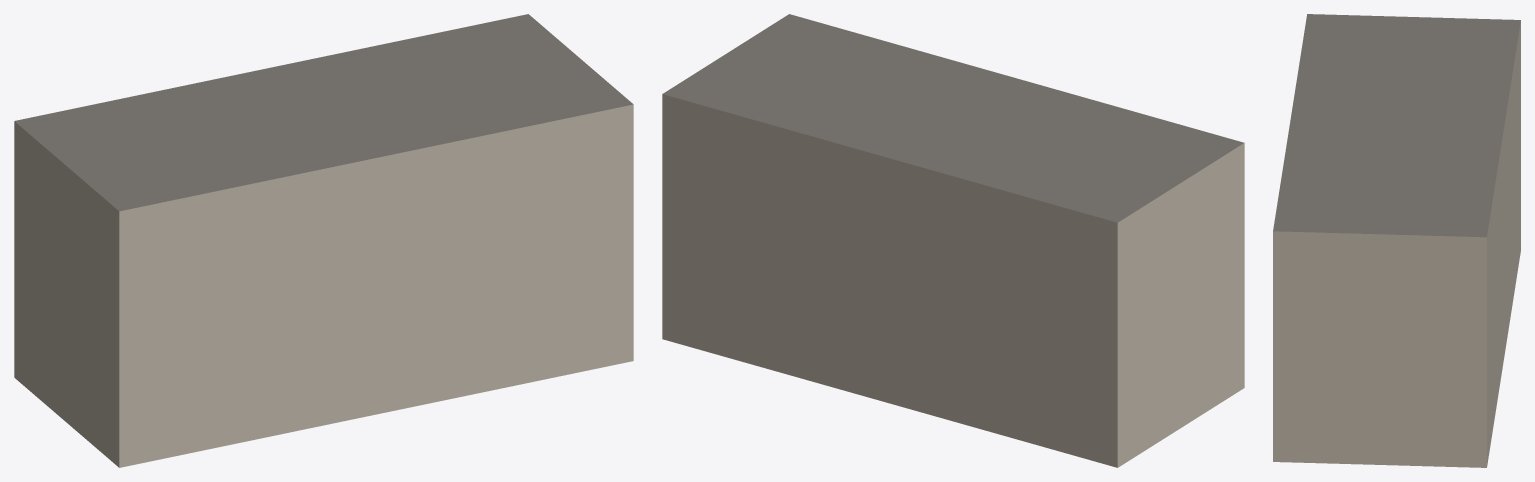
3 views of the same model, side by side, from view 1: azimuth 30°, elevation 25°; view 2: azimuth 150°, elevation 25°; view 3: azimuth 270°, elevation 25° (orthographic). The views are drawn at different scales.
Visible parts, largest first — view 1: HP-w987283662; view 2: HP-w987283662; view 3: HP-w987283662.
Part boxes in pixels (x1,y1,x2,y2): HP-w987283662: (14, 14, 633, 467); HP-w987283662: (662, 14, 1244, 467); HP-w987283662: (1273, 14, 1520, 467).
Size of the model in its own units: 37.38 by 18 by 17.54.
